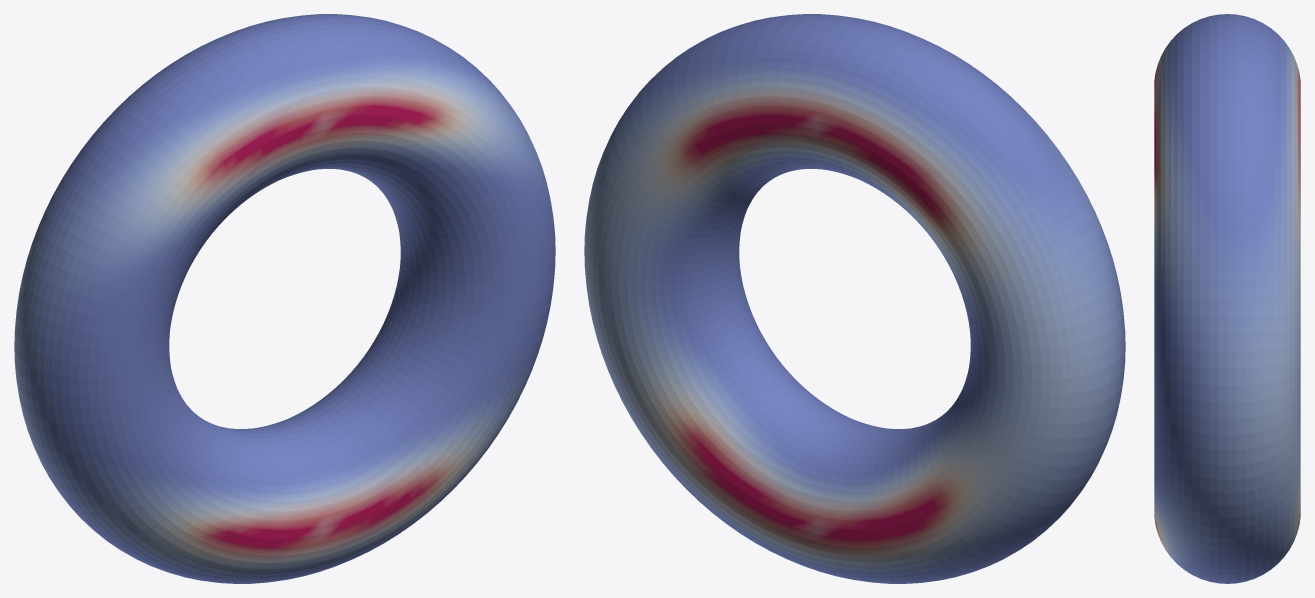
3 views of the same model, side by side, from view 1: azimuth 30°, elevation 25°; view 2: azimuth 150°, elevation 25°; view 3: azimuth 270°, elevation 25° (orthographic). The views are drawn at different scales.
Parts seen in each view (by area): view 1: world; view 2: world; view 3: world.
Part boxes in pixels (bbox=[...]): world: bbox=[14, 14, 555, 583]; world: bbox=[584, 14, 1125, 583]; world: bbox=[1154, 14, 1300, 583].
Bounding box in the file's own units: 17.07 × 17.07 × 4.39.
